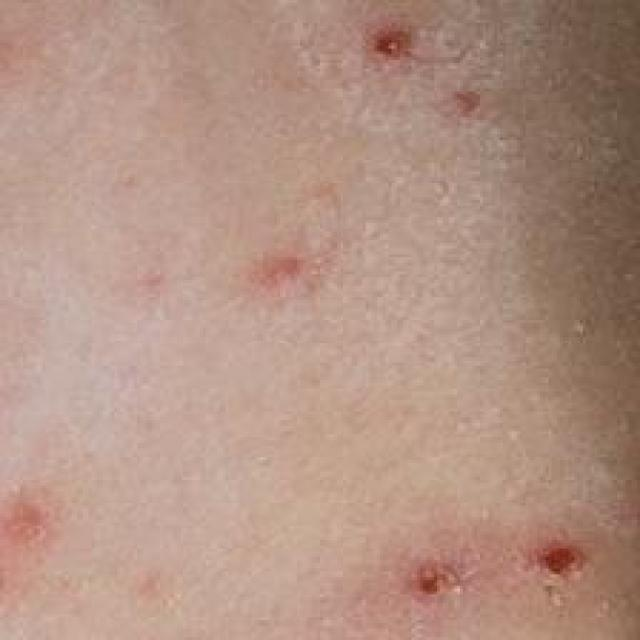others: (0, 4, 640, 614)
